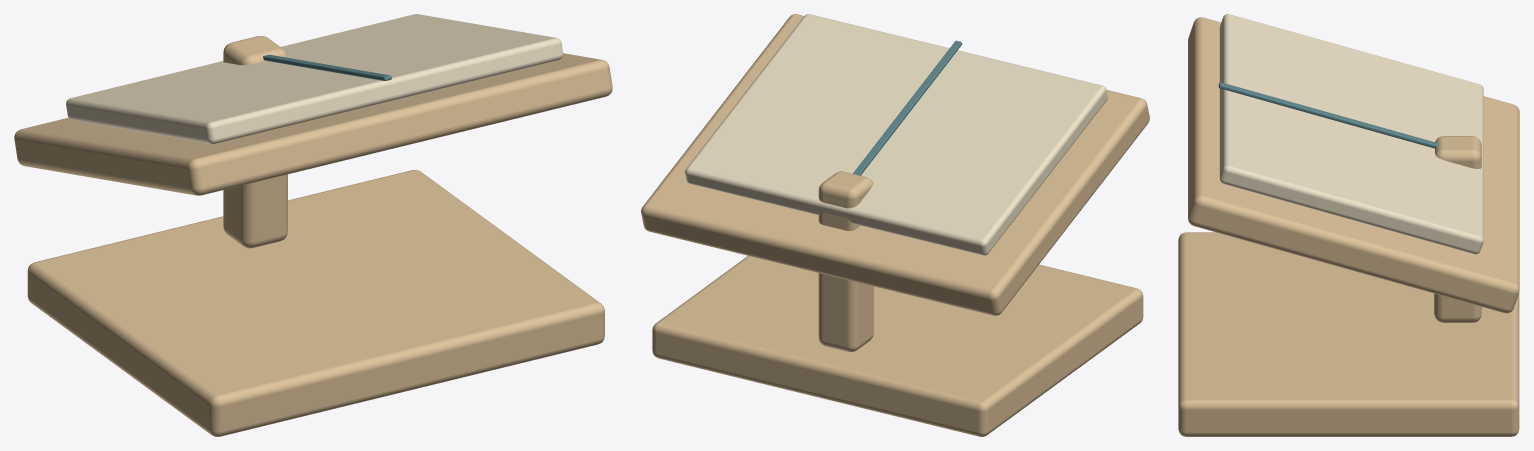
File: candlemaking-and-soap-workshop-order-book-stand-5f86455e__30694.glb
3 views of the same model, side by side, from view 1: azimuth 30°, elevation 25°; view 2: azimuth 150°, elevation 25°; view 3: azimuth 270°, elevation 25° (orthographic). The views are drawn at different scales.
Parts seen in each view (by area): view 1: order-book-stand; view 2: order-book-stand; view 3: order-book-stand.
Boxes of the visible parts, x1,y1,x2,y2 form: order-book-stand: (14,14,612,436); order-book-stand: (641,14,1149,436); order-book-stand: (1178,14,1519,436).
Bounding box in the file's own units: 0.32 × 0.2182 × 0.2503.
